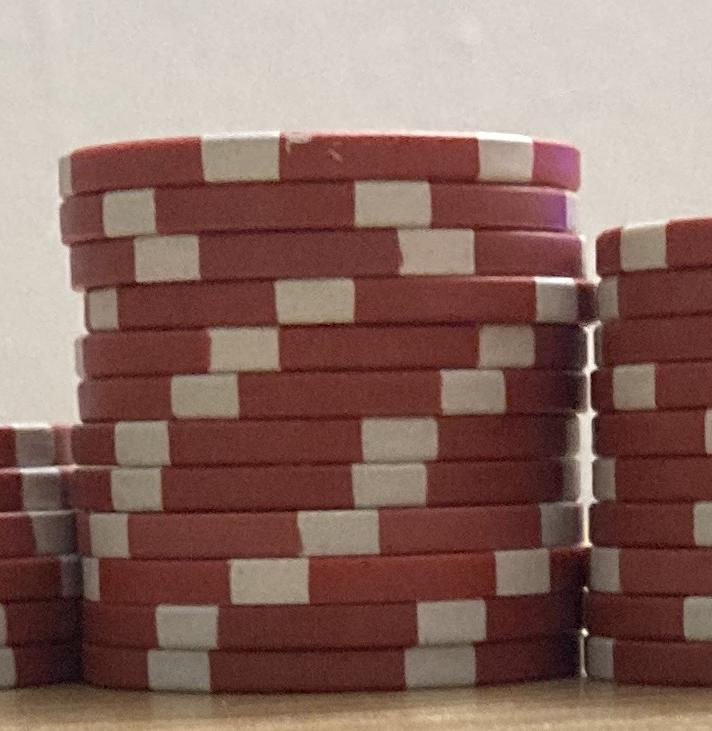Chip: (1, 1, 712, 731)
